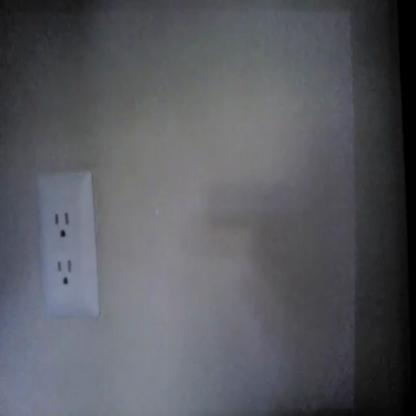OUTLET: (37, 173, 99, 317)
